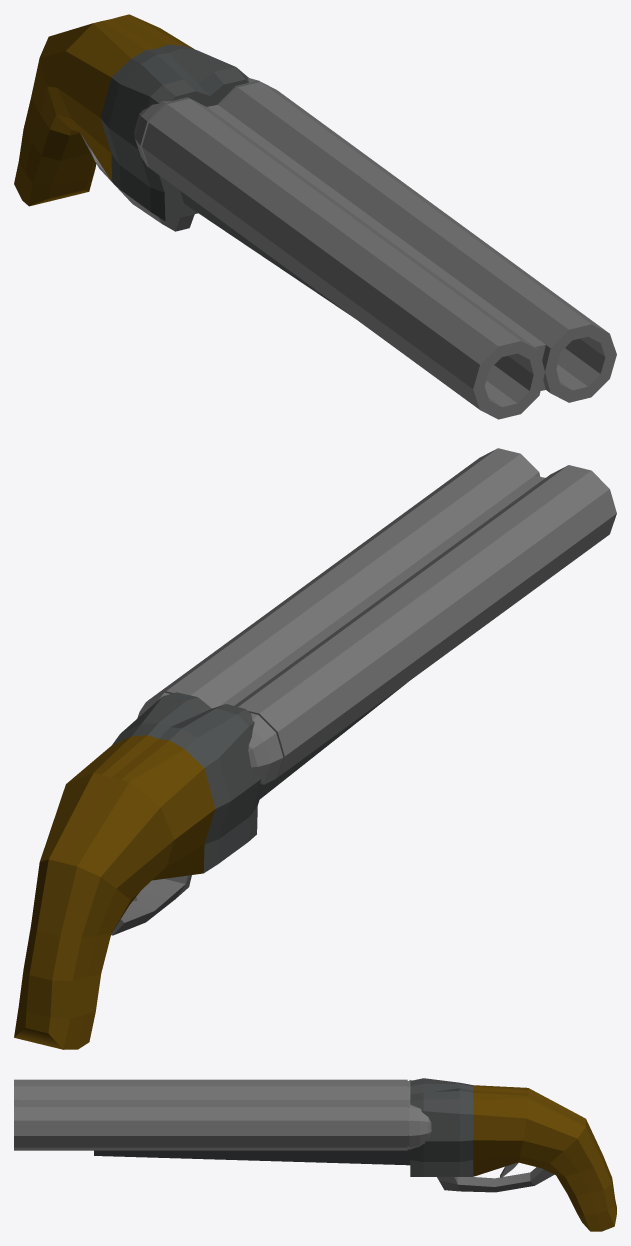
The model's file is Shotgun_A.fbx.
3 views of the same model, one above another, from view 1: azimuth 30°, elevation 25°; view 2: azimuth 150°, elevation 25°; view 3: azimuth 270°, elevation 25° (orthographic). The views are drawn at different scales.
Visible parts, largest first — view 1: pCylinder141, pCylinder135, pCube27, pCube65; view 2: pCylinder141, pCylinder135, pCube65; view 3: pCylinder141, pCylinder135, pCube27, pCube65.
Boxes of the visible parts, bbox=[...] form: pCylinder141: bbox=[134, 78, 616, 419]; pCylinder135: bbox=[14, 14, 248, 221]; pCube27: bbox=[180, 191, 353, 317]; pCube65: bbox=[80, 133, 194, 231]; pCylinder141: bbox=[137, 448, 616, 784]; pCylinder135: bbox=[14, 692, 263, 1049]; pCube65: bbox=[111, 875, 191, 935]; pCylinder141: bbox=[14, 1079, 431, 1150]; pCylinder135: bbox=[410, 1078, 616, 1231]; pCube27: bbox=[94, 1149, 410, 1165]; pCube65: bbox=[437, 1167, 554, 1192].
Size of the model in its own units: 3.92 by 23.92 by 5.96.
